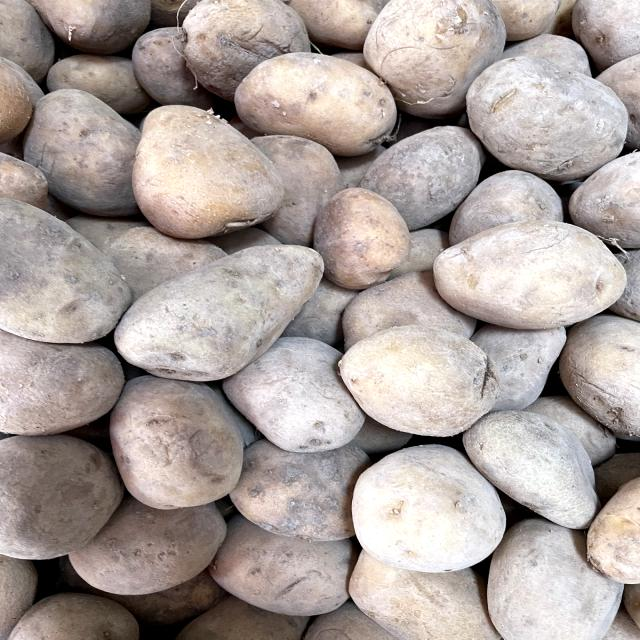potato: (106, 234, 346, 383), (421, 205, 628, 332), (331, 309, 512, 446), (459, 46, 636, 182), (128, 96, 293, 241), (227, 48, 412, 153), (107, 368, 240, 509), (311, 175, 409, 293)
